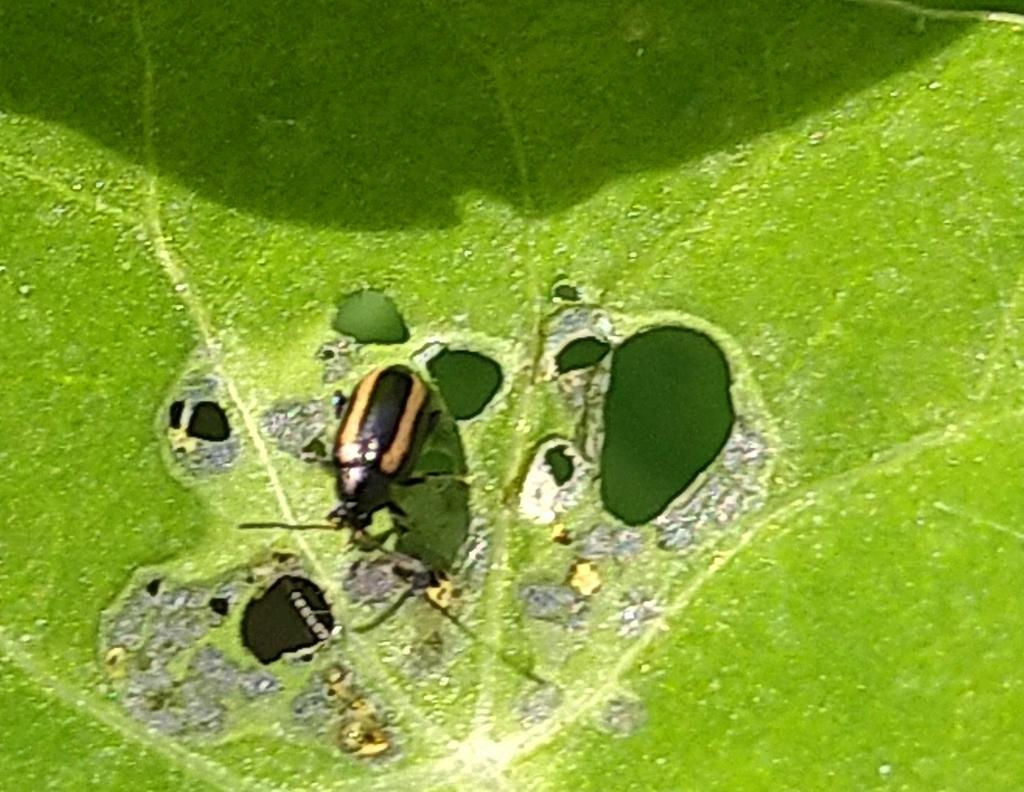flea_beetle: (211, 312, 493, 611)
